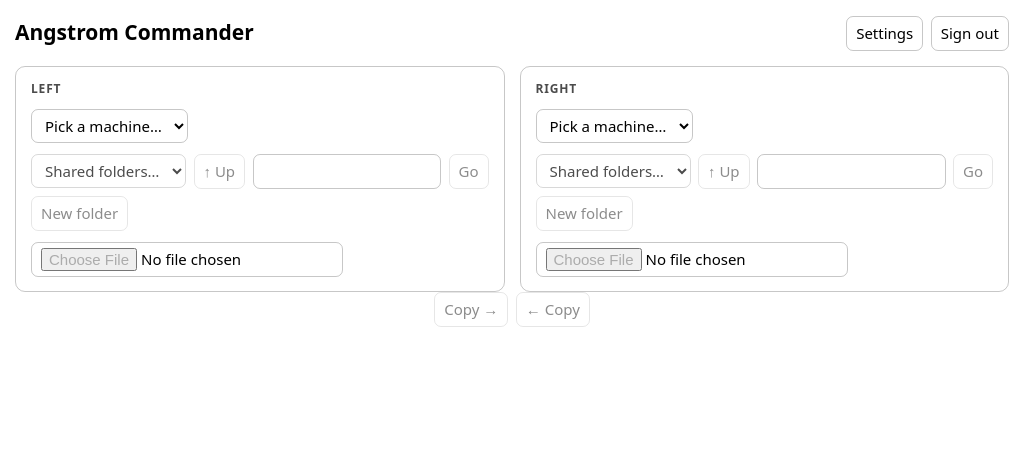
Test: copy stays disabled until a file is selected on both machines
This screenshot has width=1024, height=464.
Expected: the button "Copy →" is disabled, [434,292,508,326]
Select "Home PC" in the dropdown named "Left: machine" at (110, 126), box [31,108,188,143]
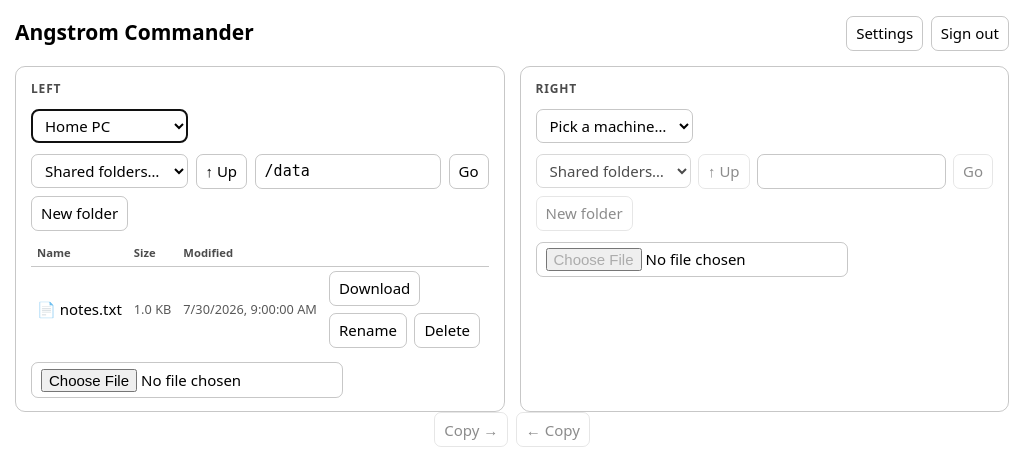
Click the text "📄 notes.txt" at (79, 309), box [31,266,128,352]
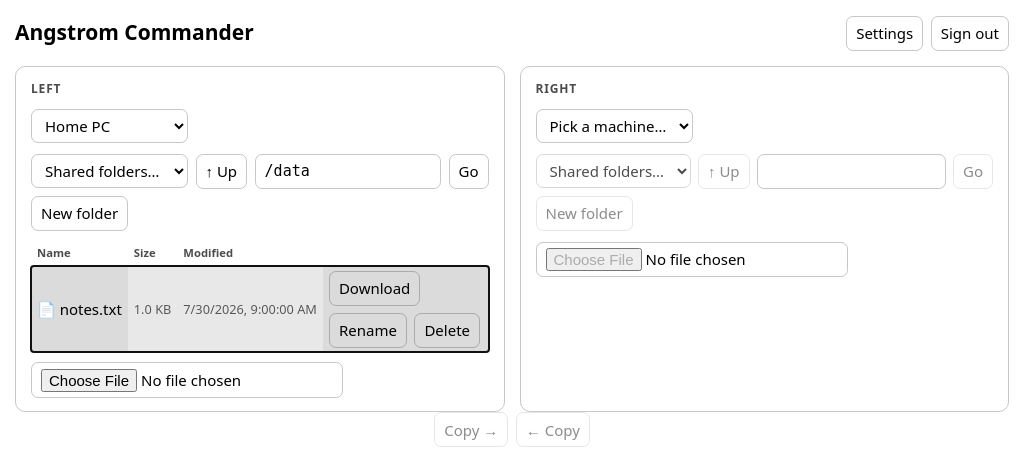
Expected: the button "Copy →" is disabled, [434,412,508,447]
Select "Laptop" in the dropdown named "Right: machine" at (614, 126), box [536,108,692,143]
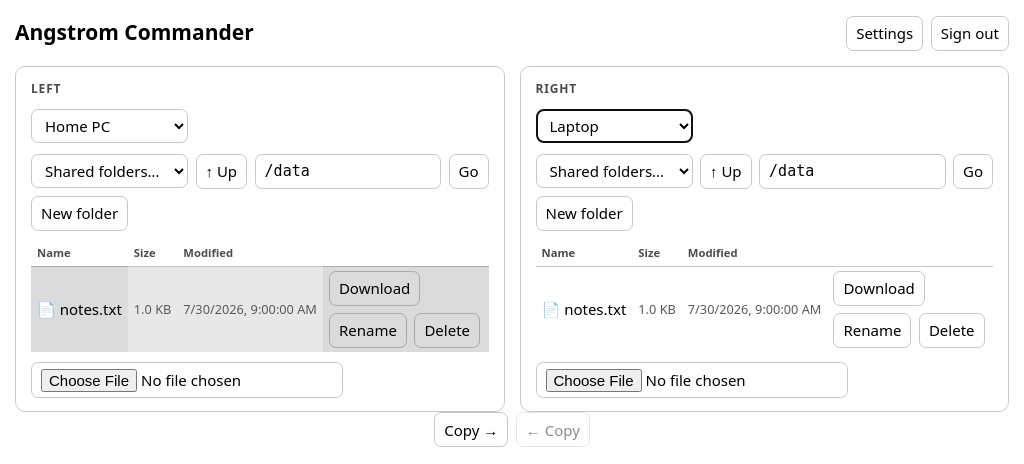
Now the button "Copy →" is enabled, box [434,412,508,447]
